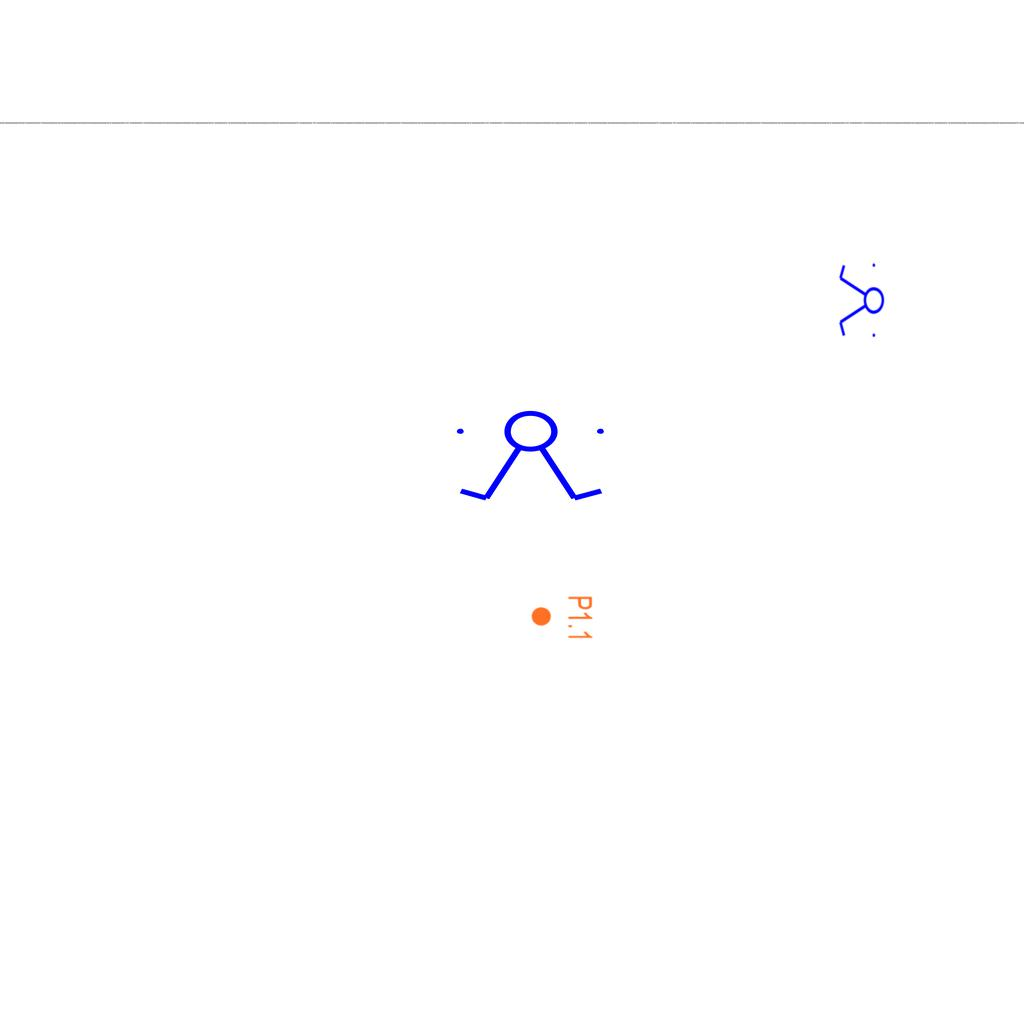Downlight_LED_Einbauleuchten_Flur: (530, 595, 594, 641)
Serienschalter: (448, 409, 616, 505), (837, 259, 885, 343)
